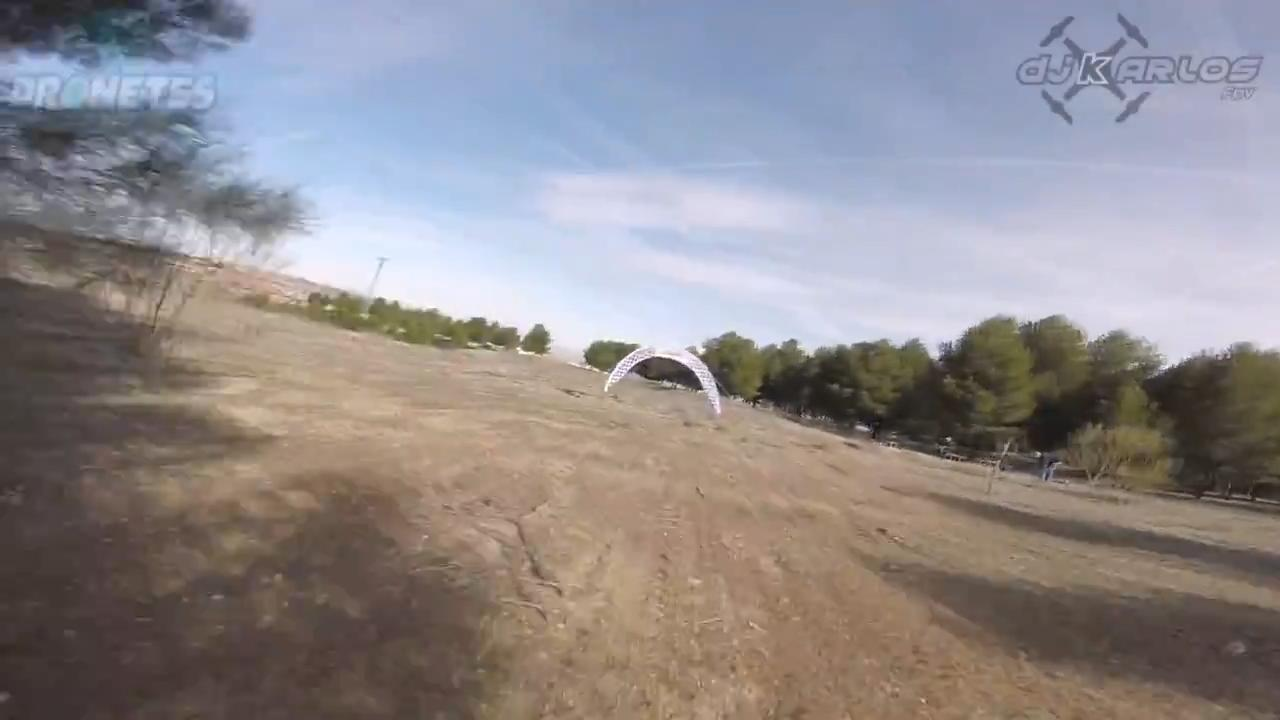gate: (602, 343, 725, 417)
